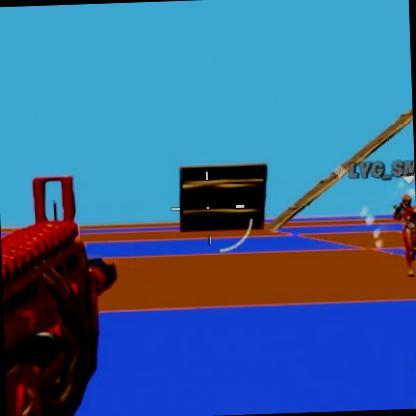person: (397, 192, 416, 277)
